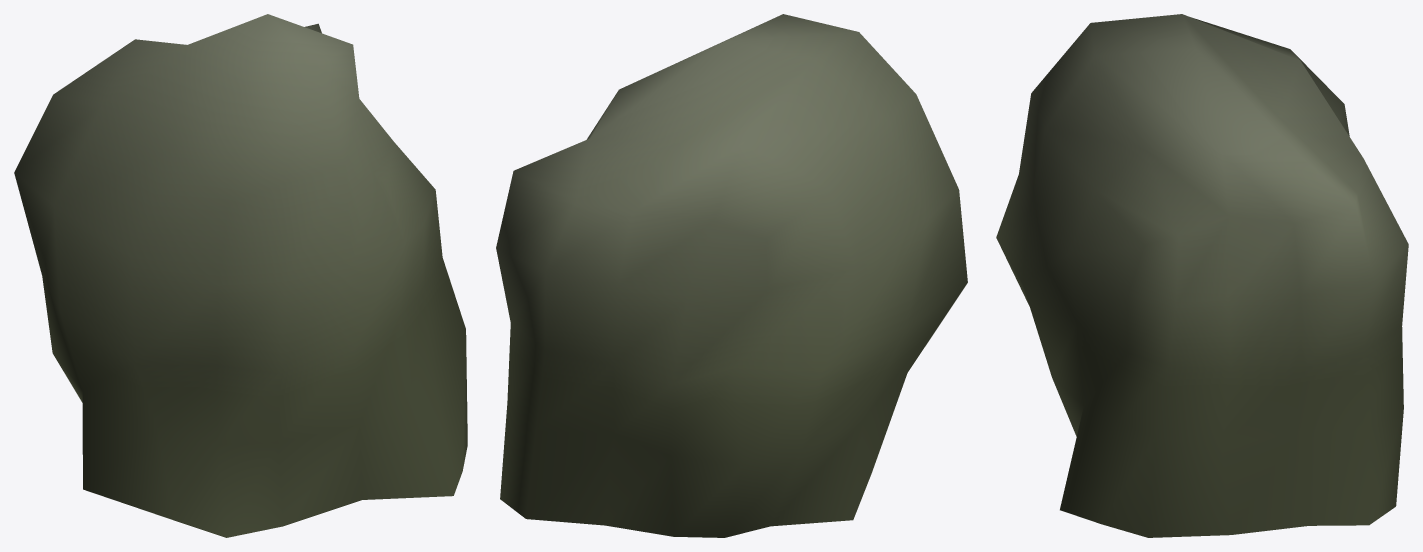
Rendered from WE02_Brush20.fbx.
3 views of the same model, side by side, from view 1: azimuth 30°, elevation 25°; view 2: azimuth 150°, elevation 25°; view 3: azimuth 270°, elevation 25° (orthographic). The views are drawn at different scales.
Visible parts, largest first — view 1: WE02_Brush20; view 2: WE02_Brush20; view 3: WE02_Brush20.
Part boxes in pixels (x1,y1,x2,y2): WE02_Brush20: (14, 14, 467, 537); WE02_Brush20: (496, 14, 967, 537); WE02_Brush20: (996, 14, 1408, 537).
Bounding box in the file's own units: 6.05 × 6.59 × 5.98.
